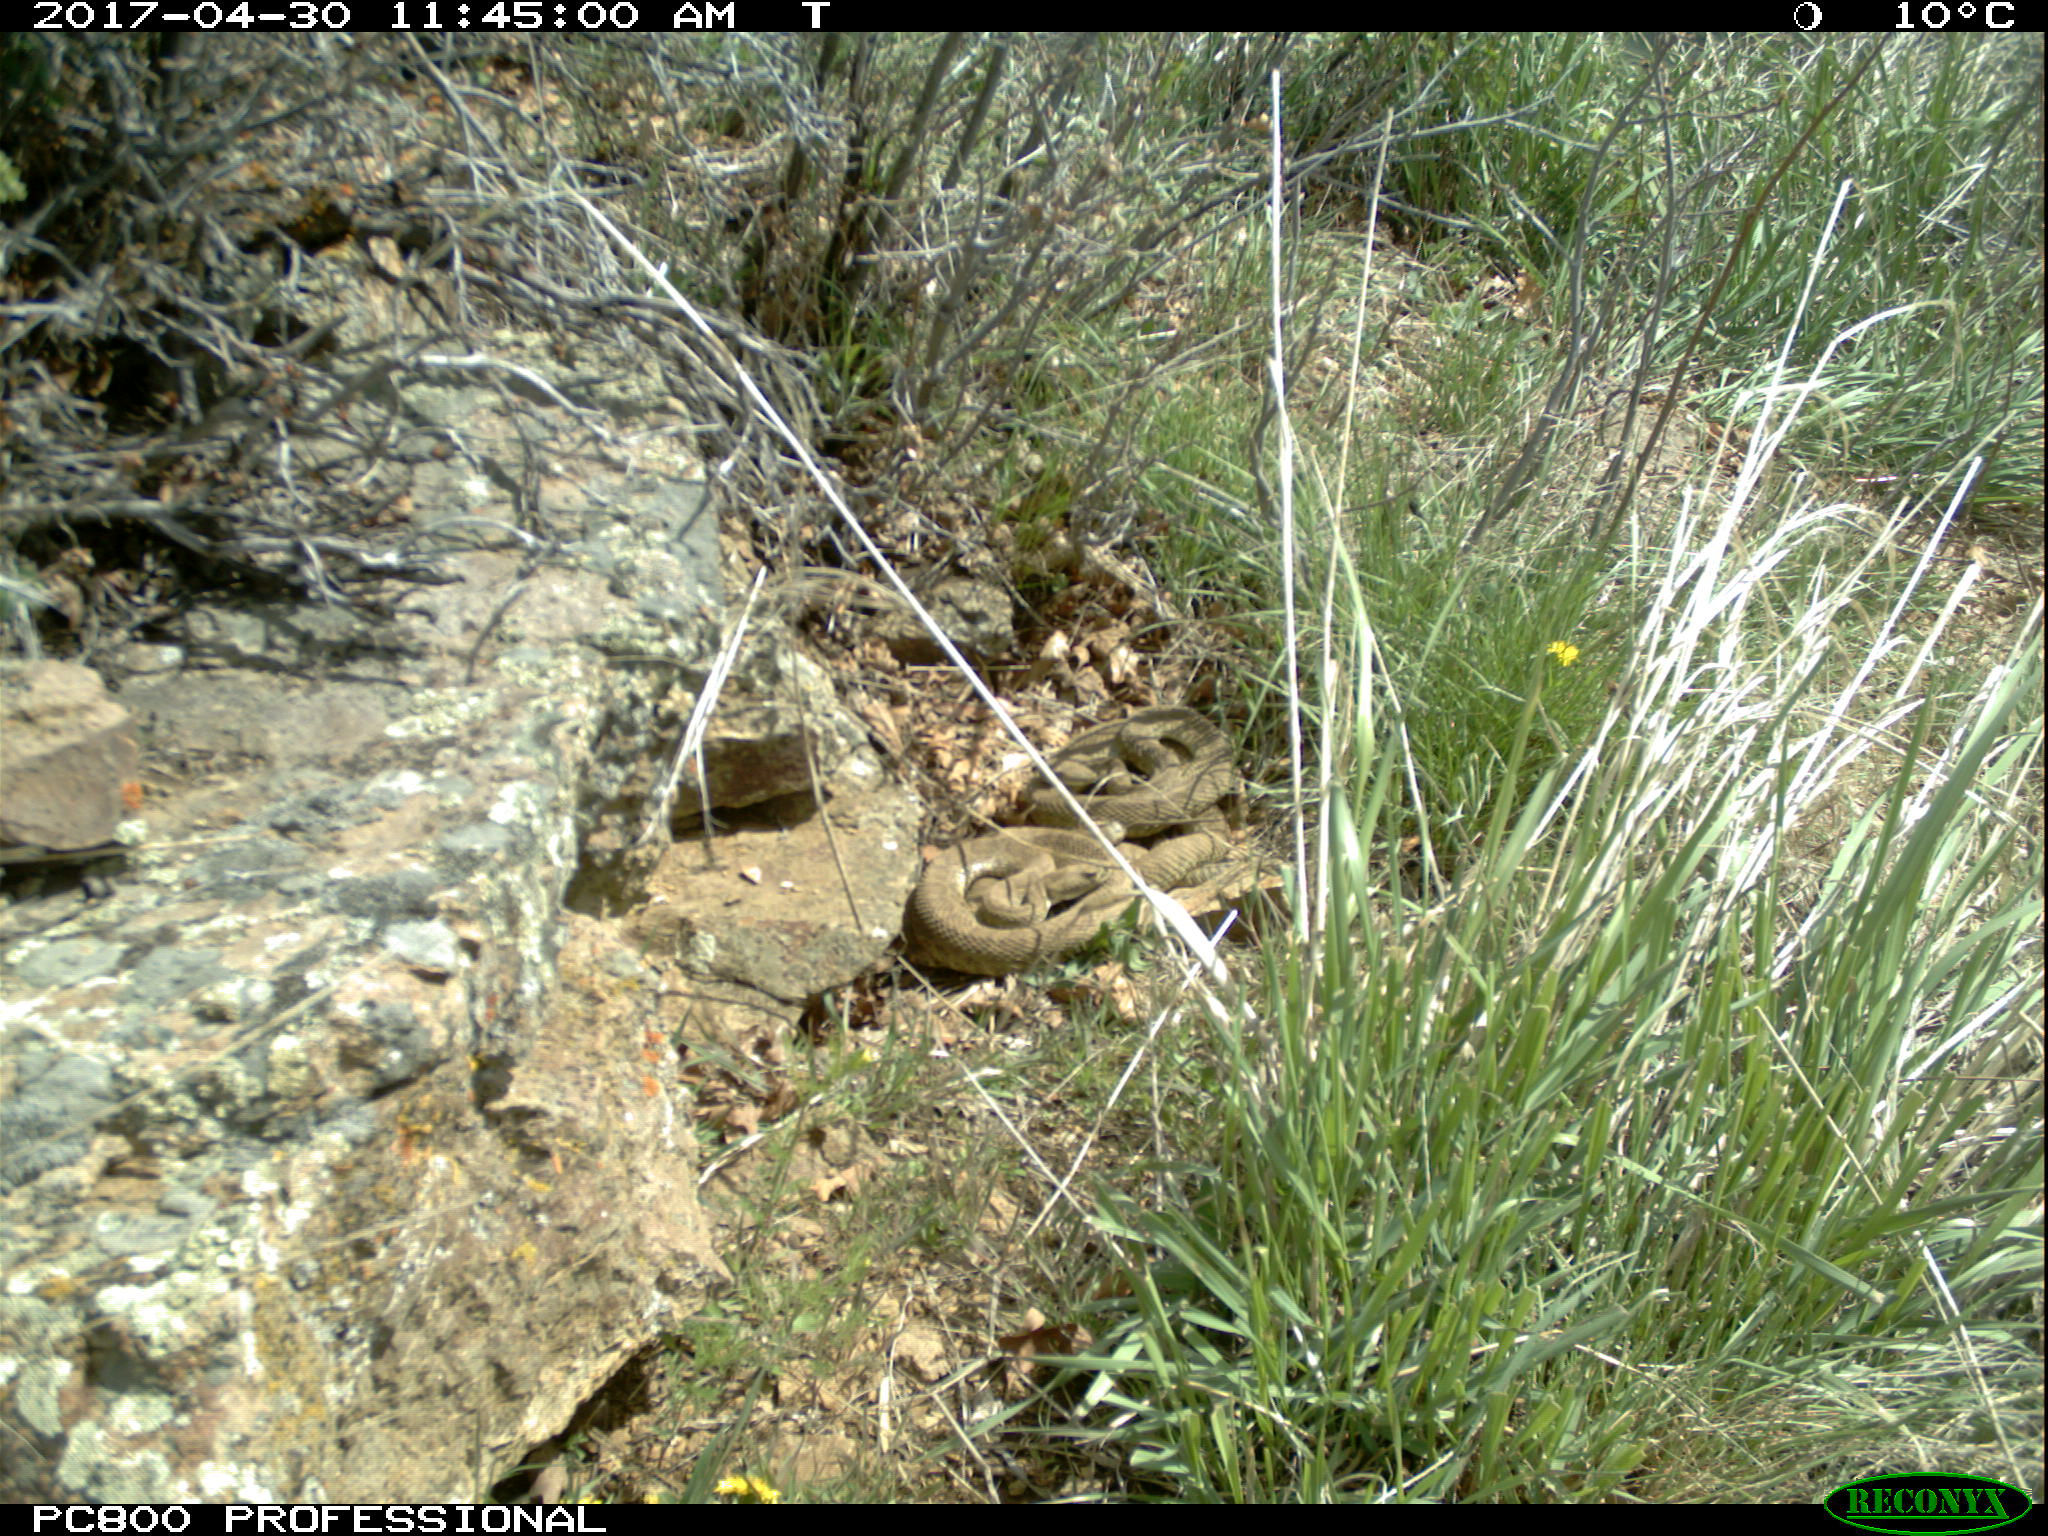snake: (910, 702, 1292, 981)
